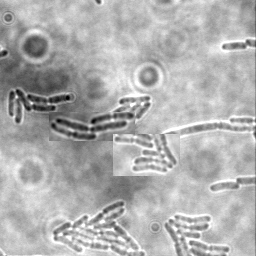Dividing: (161, 123, 255, 142), (221, 41, 248, 52)
Microcolony: (51, 200, 147, 255), (162, 212, 231, 255), (113, 134, 180, 176), (49, 112, 135, 141), (8, 89, 72, 126), (106, 96, 153, 132), (208, 182, 240, 193)
